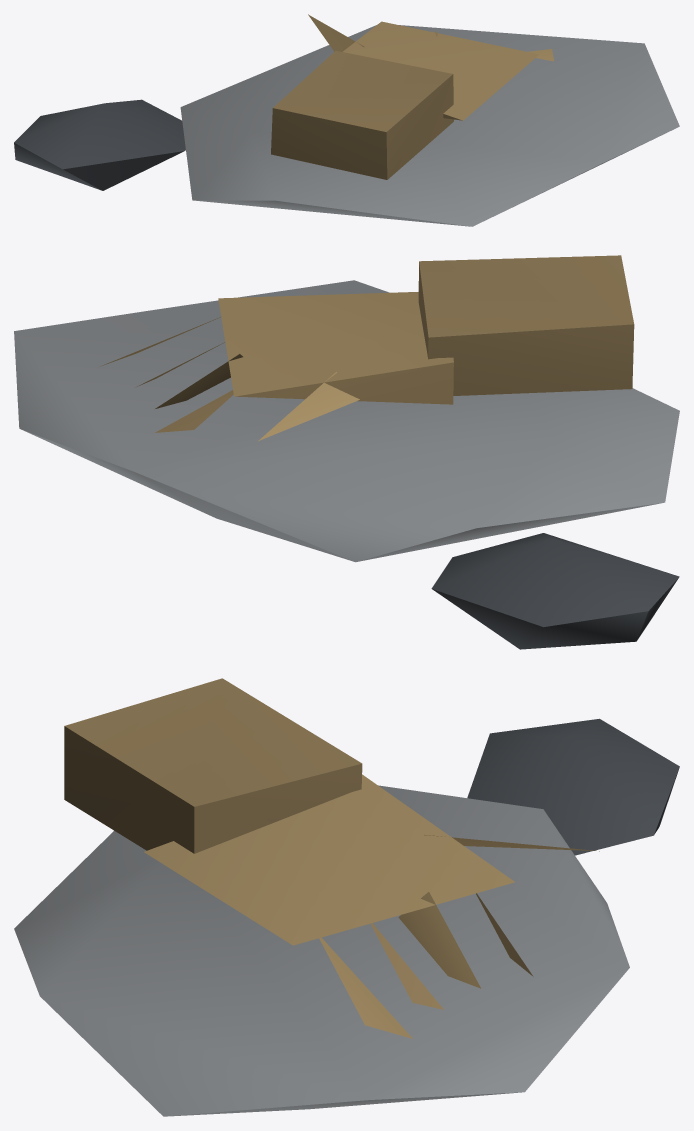
The model's file is lost_glove_a_lod2.glb.
The picture shows the model from 3 angles, top to bottom: view 1: azimuth 30°, elevation 25°; view 2: azimuth 150°, elevation 25°; view 3: azimuth 270°, elevation 25°; orthographic projection. The views are drawn at different scales.
Visible parts, largest first — view 1: Surface.001; view 2: Surface.001; view 3: Surface.001.
Boxes of the visible parts, x1,y1,x2,y2 form: Surface.001: (14,14,679,226); Surface.001: (14,255,679,649); Surface.001: (14,678,679,1116).
Size of the model in its own units: 0.8112 by 0.1824 by 0.5548.
